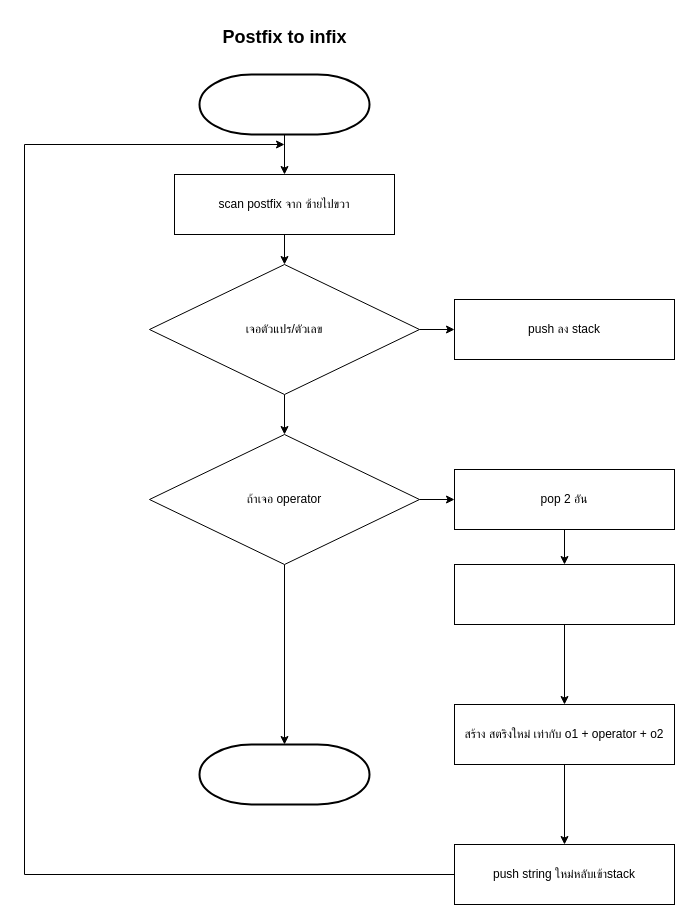
Image size: 692x922. Some labels were removed from this diagram. The box of each missing label's shape, as (x1, y1, x2, y2) in pixels:
ครั้งแรกเก็บที่ o1 ครั้งที่2 o2: (454, 564, 674, 624)
จบ: (198, 743, 370, 805)
เริ่ม: (198, 73, 370, 135)
